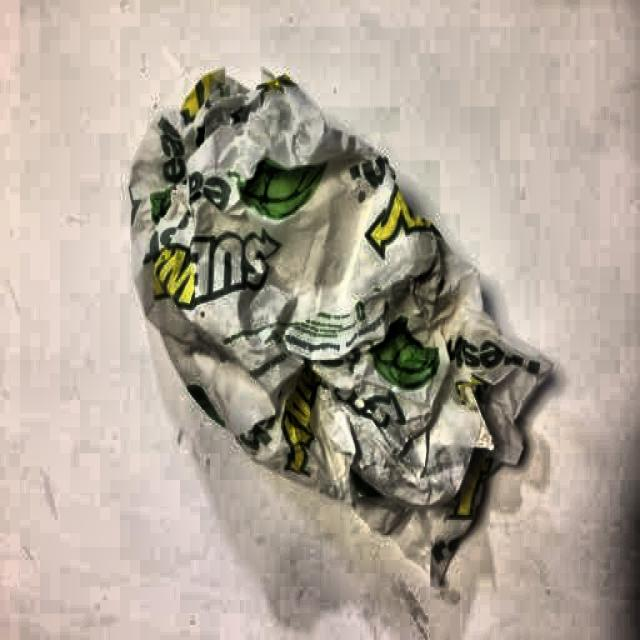paper: (135, 66, 528, 566)
